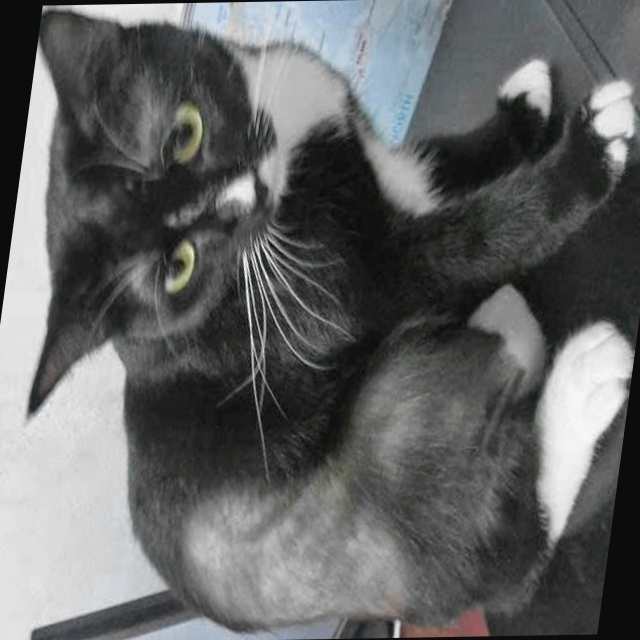hairloss: (167, 499, 451, 624)
